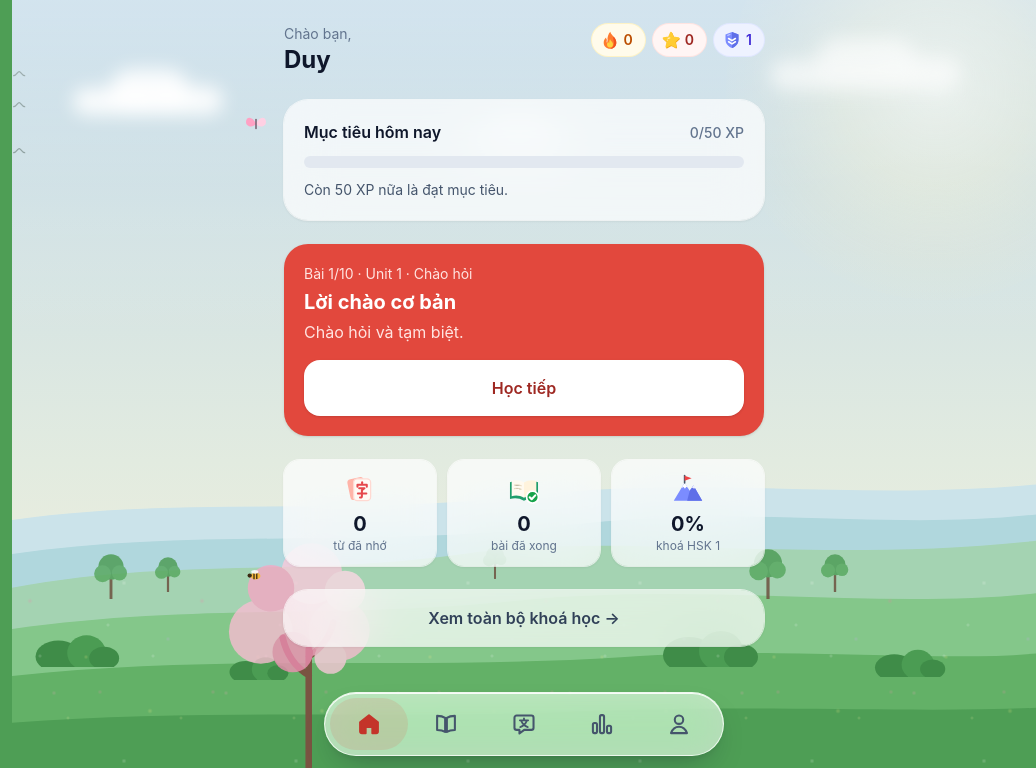
Scenario: Màn Dịch — Việt → Trung › thanh điều hướng có mục Dịch, bấm vào là tới màn Dịch
What coordinates should you click on to do the following:
click the link named "Dịch"
I would click on:
 (524, 724)
Its box is [511,711,537,737].
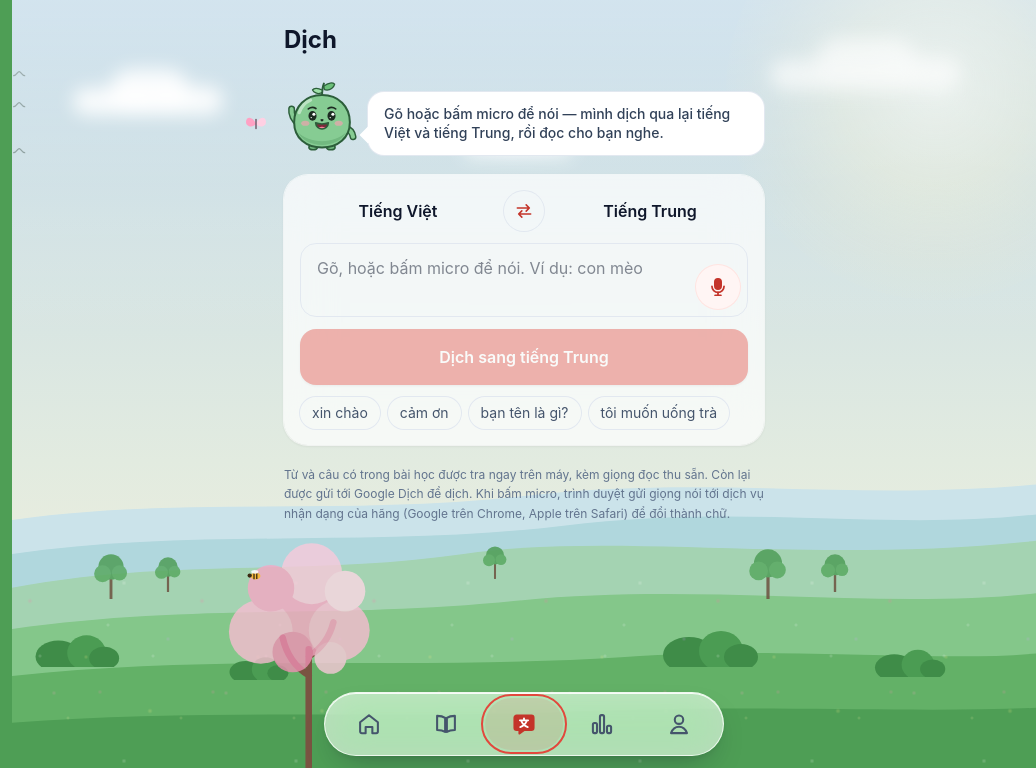
Now the heading "Dịch" is shown, box [284,25,337,54]
